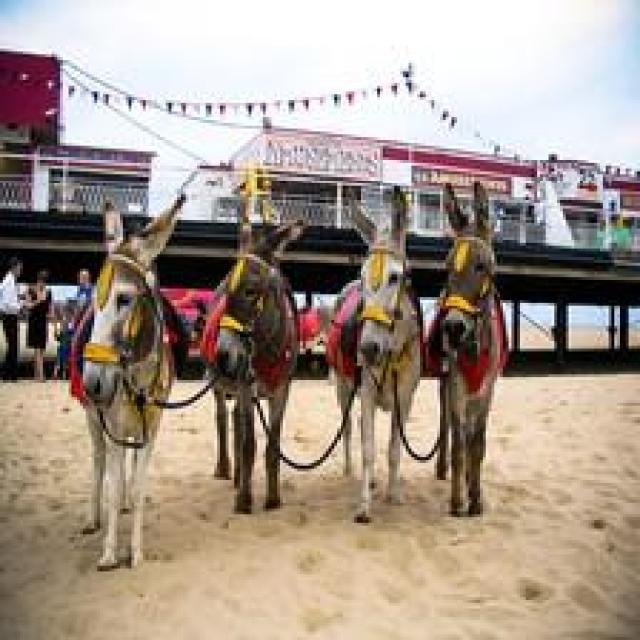Donkey: (74, 188, 189, 568), (323, 186, 423, 523), (200, 214, 306, 512), (431, 177, 503, 517)
